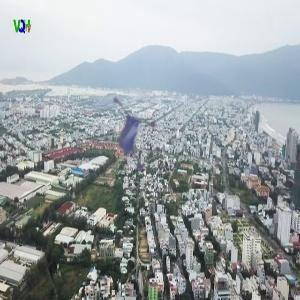drone: (96, 101, 182, 187)
